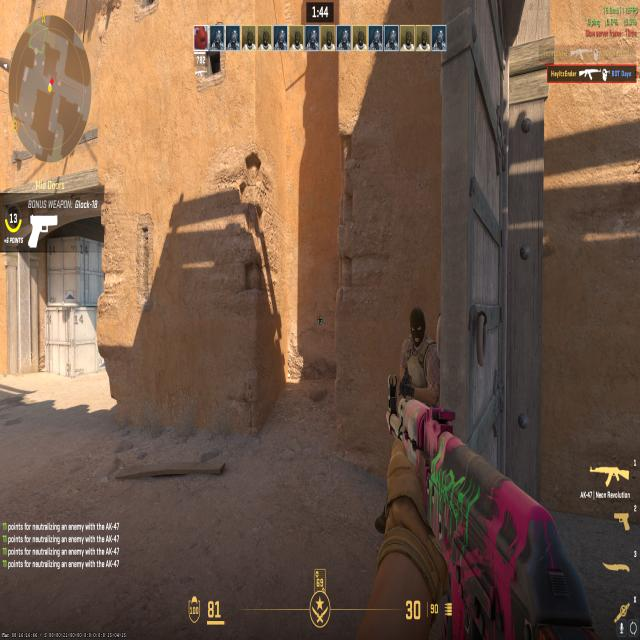t: (385, 300, 441, 402)
